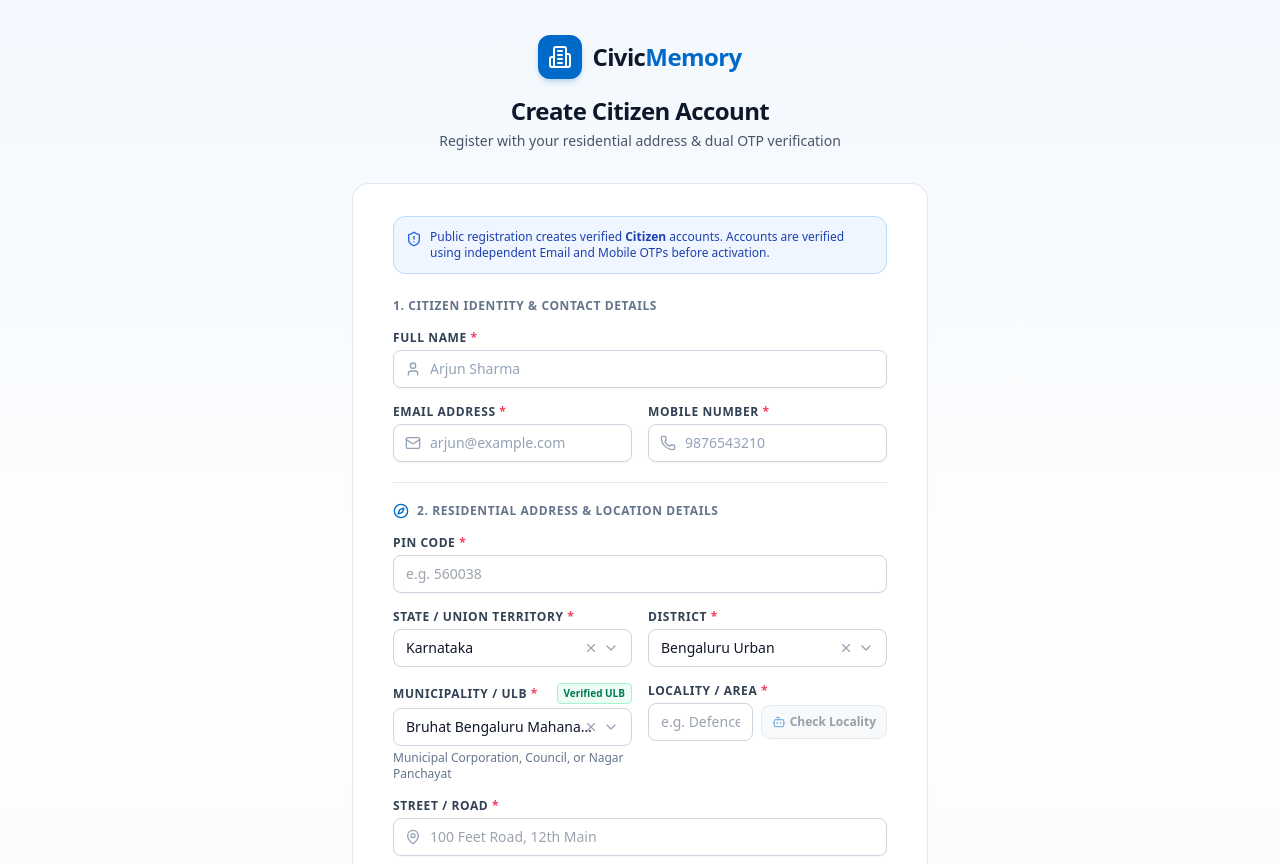
Test: RegisterPage — Citizen Registration & Address Selection Enhancement › 5. "Align State & District with PIN Code" updates region cleanly
The width and height of the screenshot is (1280, 864).
Note: Manually set Karnataka, Bengaluru Urban
Click the dropdown named "state". click: point(512, 648)
box: [393,629,632,667]
(page scrolled)
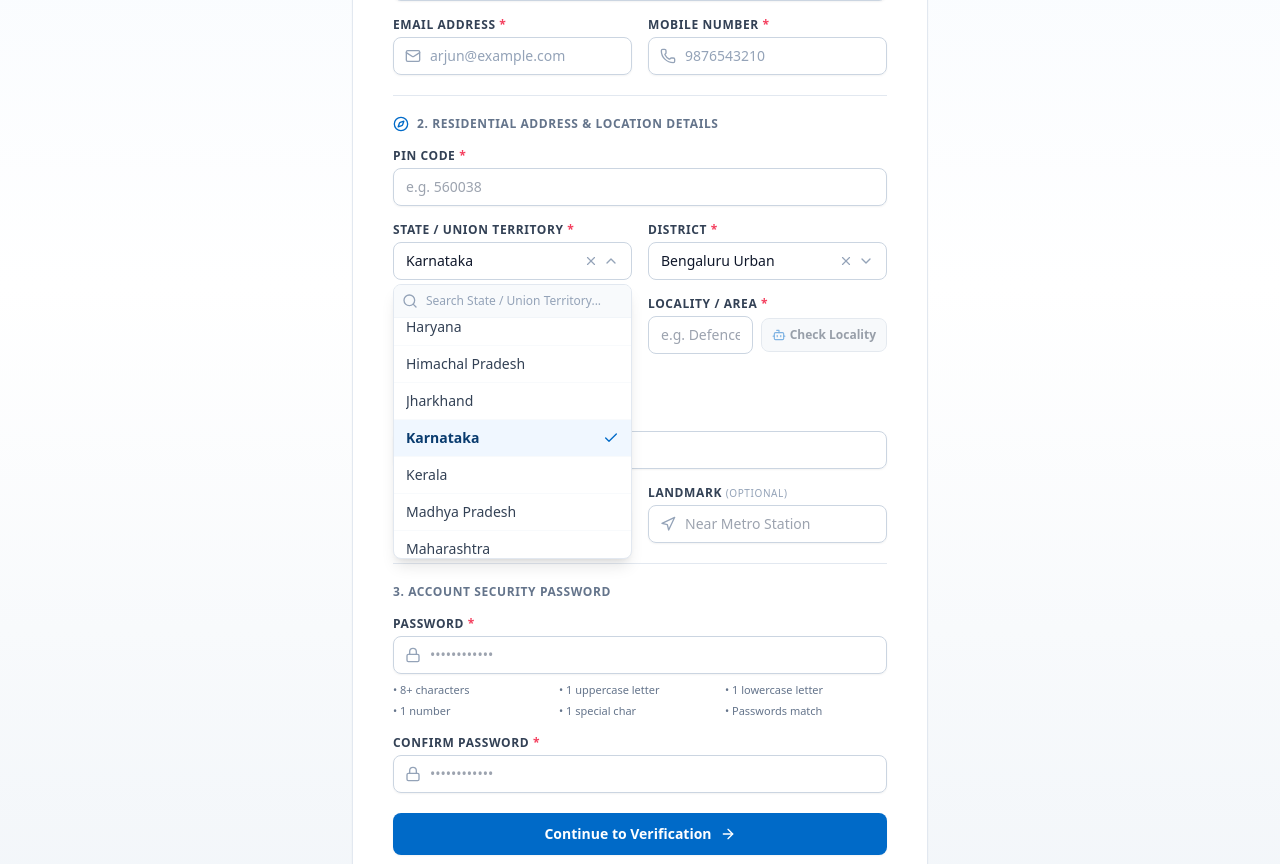
Click the option "Karnataka". click: point(512, 438)
box: [394,419,631,456]
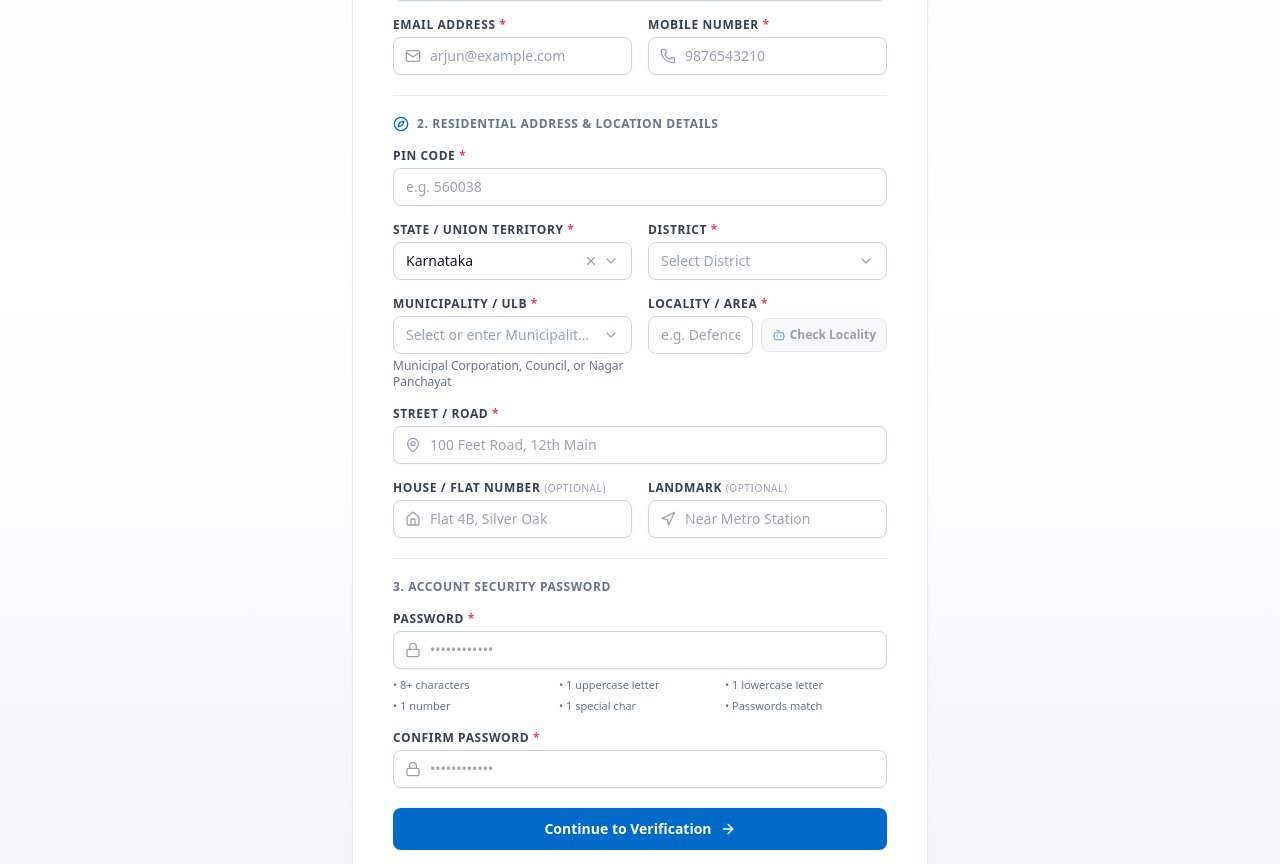
Click the dropdown labelled "Select District". click: point(768, 261)
box: [648,242,887,280]
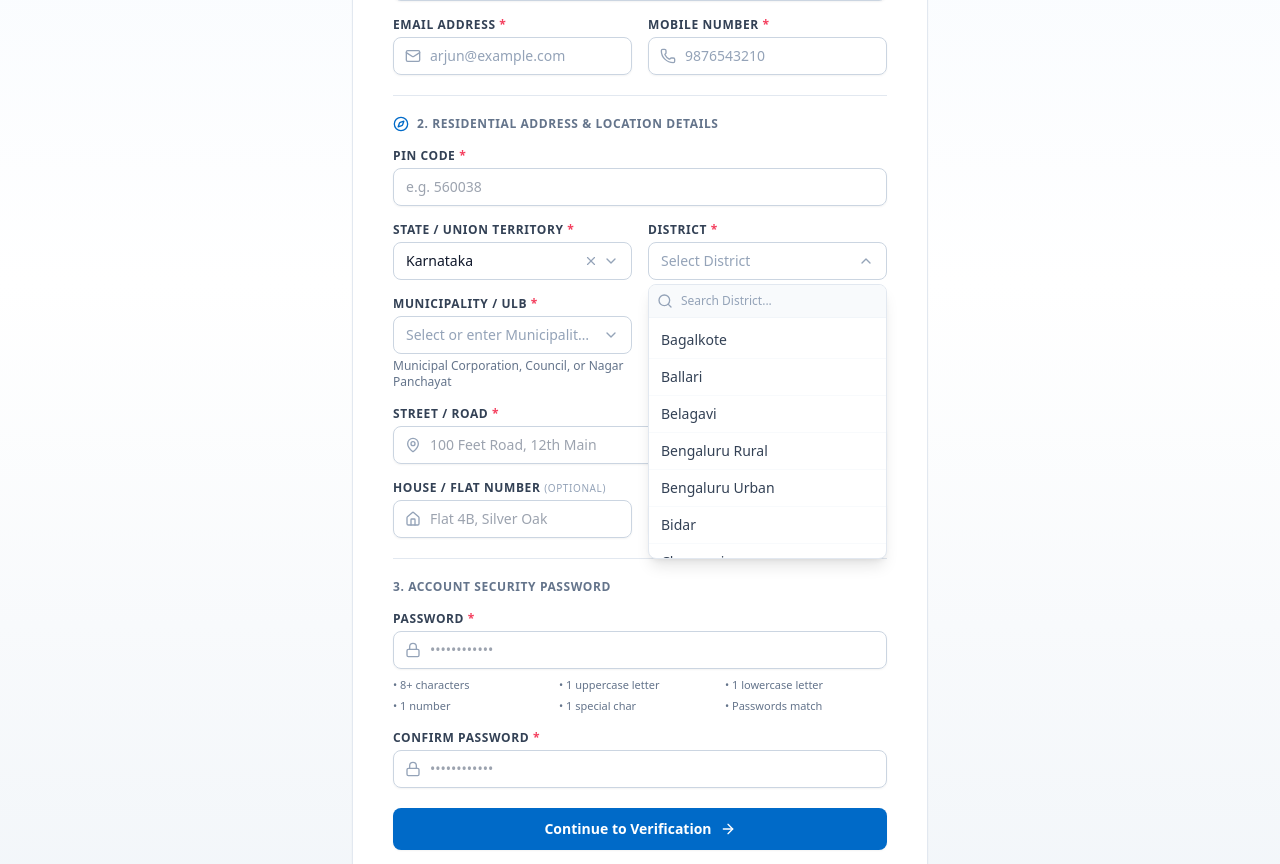
Click the option "Bengaluru Urban". click: point(768, 488)
box: [649,469,886,506]
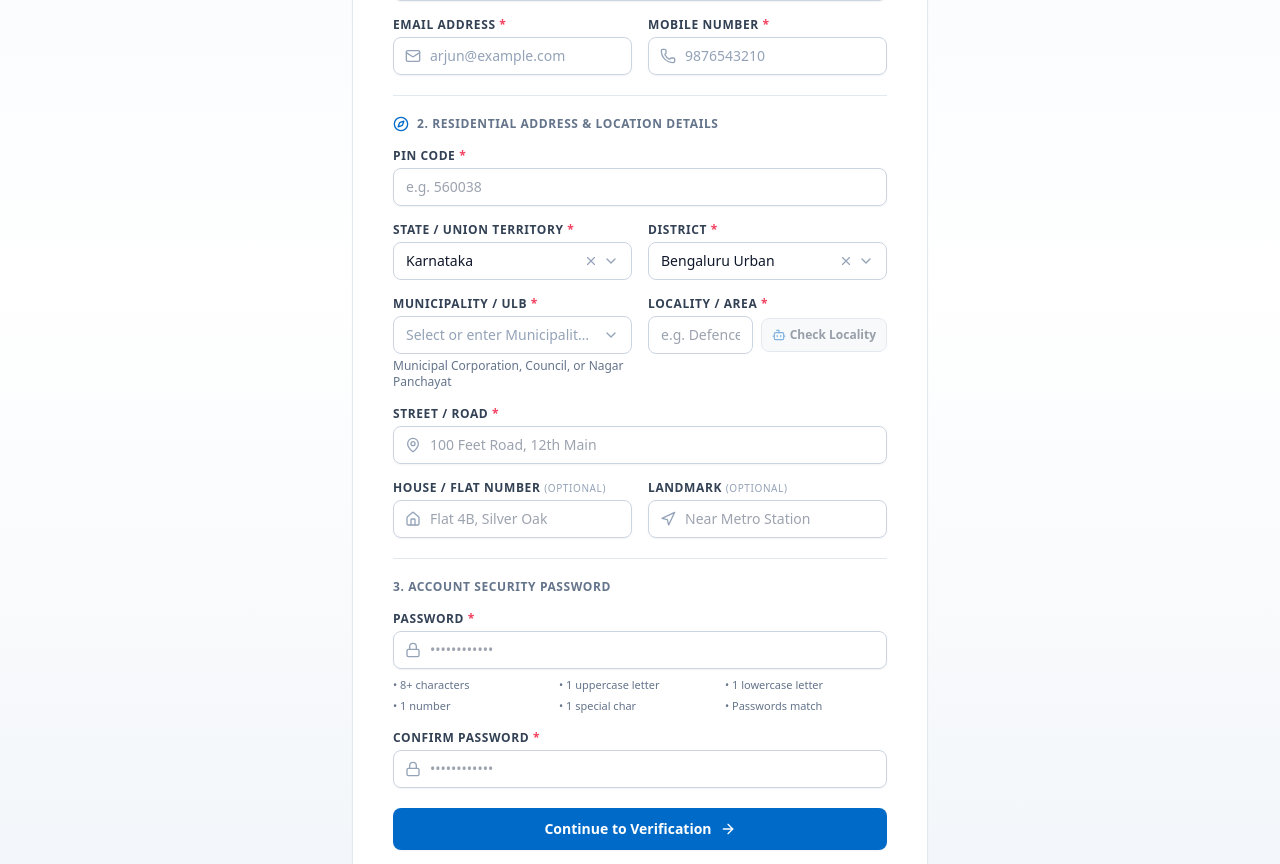
Note: Enter PIN 411001 (Pune, Maharashtra)
Type "411001" into the field with placeholder "e.g. 560038". click: point(640, 187)
box: [393,168,887,206]
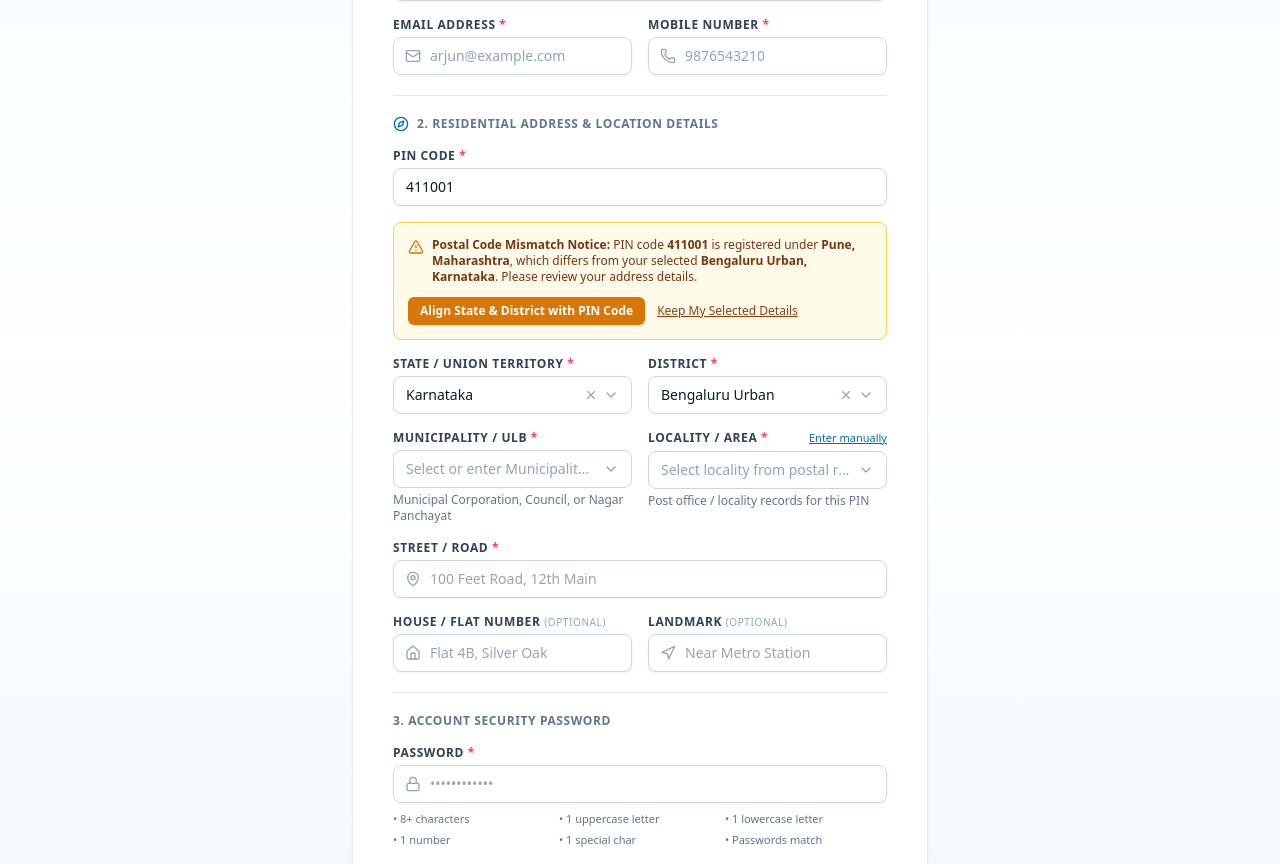
expect the button "Align State & District with PIN Code" is shown: met
Click the button "Align State & District with PIN Code". click: point(527, 311)
box: [408,297,645,325]
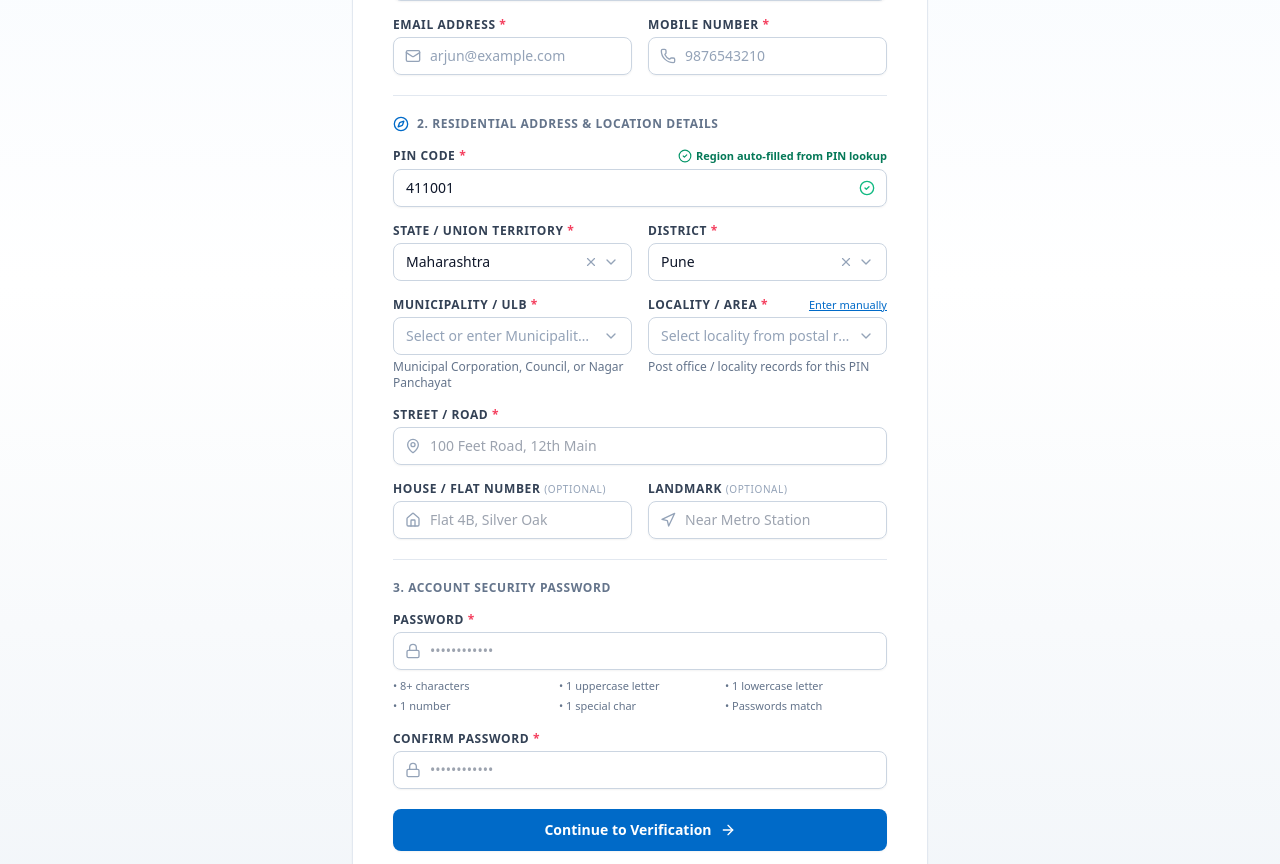
expect the text "Maharashtra" is shown: met, box [406,252,490,272]
expect the text "Pune" is shown: met, box [661,252,695,272]
